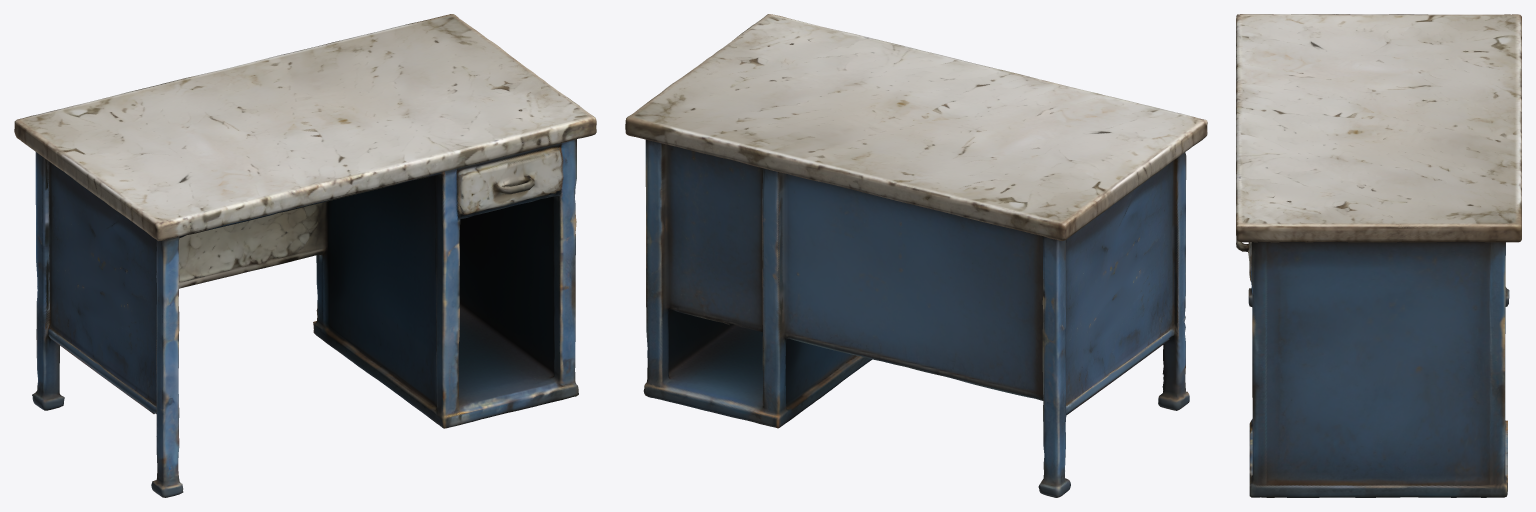
File: meja-buluk.fbx
The picture shows the model from 3 angles, left to right: view 1: azimuth 30°, elevation 25°; view 2: azimuth 150°, elevation 25°; view 3: azimuth 270°, elevation 25°; orthographic projection.
Visible parts, largest first — view 1: model; view 2: model; view 3: model.
Boxes of the visible parts, left/top/right/bottom form: model: left=14, top=14, right=596, bottom=497; model: left=625, top=14, right=1207, bottom=497; model: left=1236, top=14, right=1521, bottom=497.
Bounding box in the file's own units: 187 × 116 × 107.
Materials: 1 (1 with a texture image).
